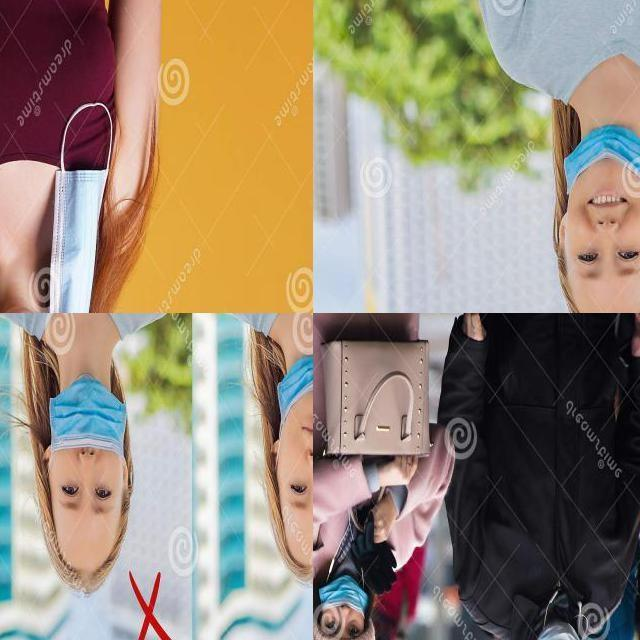hairnet: (560, 121, 639, 287), (44, 374, 130, 516), (277, 350, 315, 520), (323, 578, 365, 639)
no_gloves: (33, 496, 138, 598)
